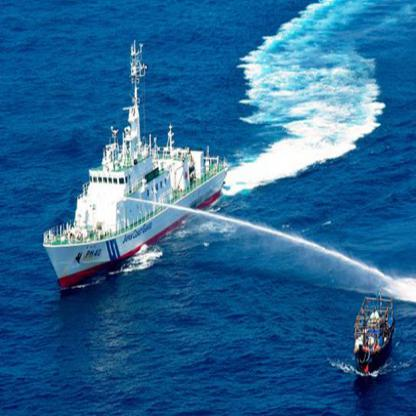fish-b: (351, 265, 402, 382)
